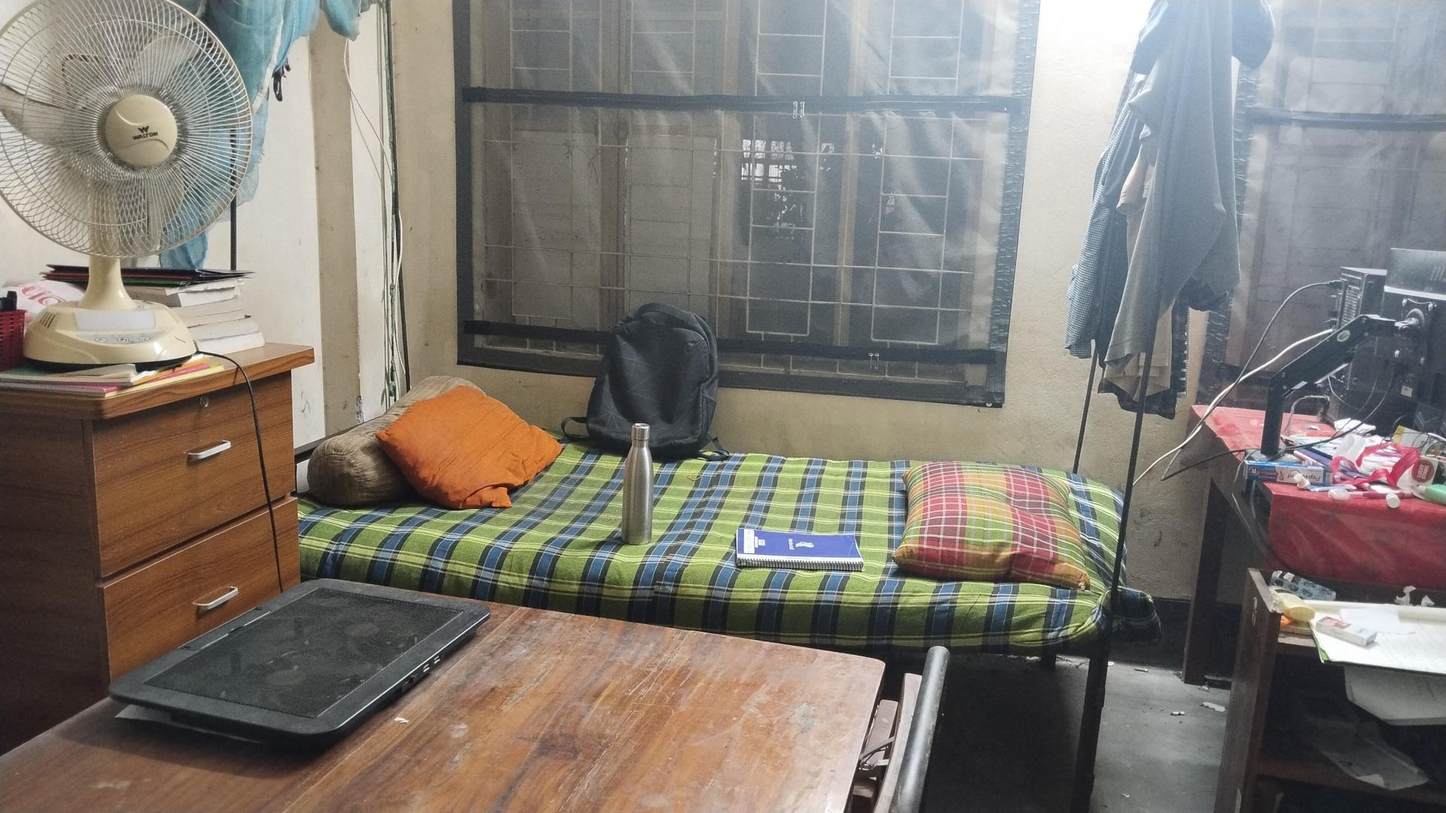Bag: (583, 300, 717, 459)
Bottle: (618, 419, 658, 546)
Fan: (1, 2, 254, 367)
Notebook: (729, 525, 865, 572)
Pillow: (901, 455, 1089, 589), (390, 374, 565, 506)
